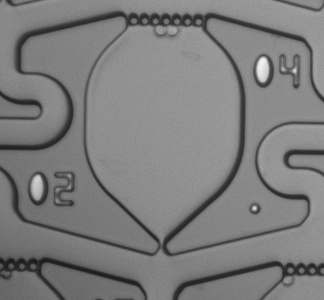AptNum: (246, 49, 308, 94)
Marker: (240, 196, 270, 223)
StNum: (21, 165, 83, 215)
Trap: (140, 244, 184, 286)
